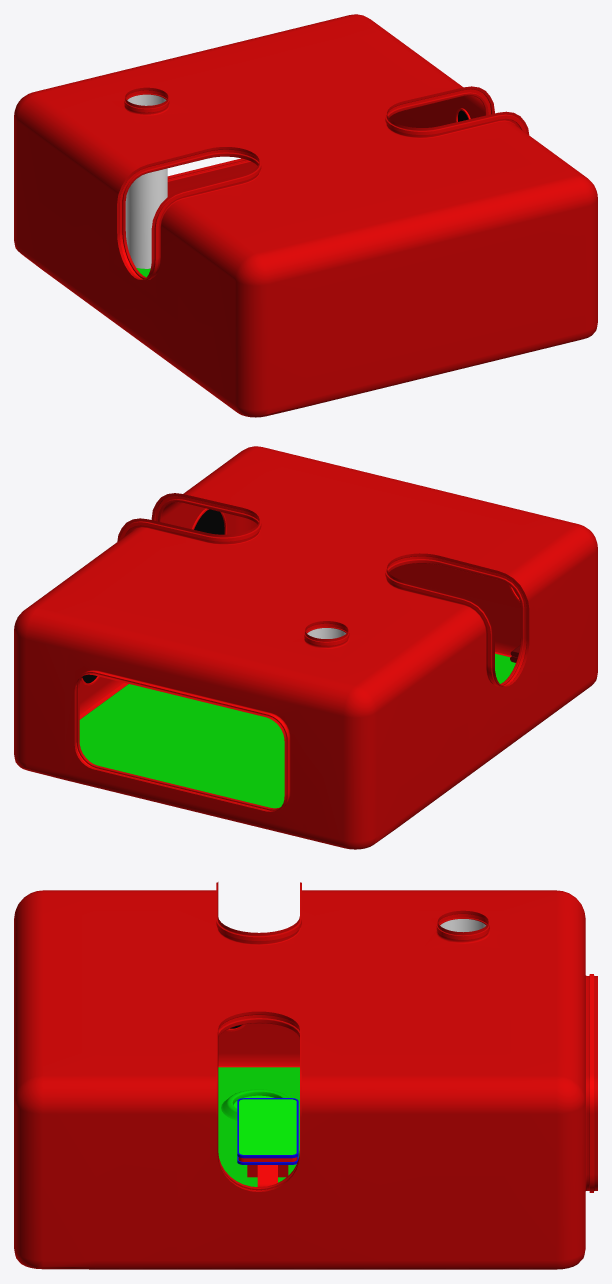
The model's file is Room(noBoard)_mesh.fbx.
3 views of the same model, one above another, from view 1: azimuth 30°, elevation 25°; view 2: azimuth 150°, elevation 25°; view 3: azimuth 270°, elevation 25° (orthographic). The views are drawn at different scales.
Visible parts, largest first — view 1: Room_combined_noBoard, Bulb__1_; view 2: Room_combined_noBoard; view 3: Room_combined_noBoard.
Part boxes in pixels (box(x1,y1,x2,y2)): Room_combined_noBoard: box(14, 14, 597, 417); Bulb__1_: box(125, 94, 167, 268); Room_combined_noBoard: box(14, 446, 597, 849); Room_combined_noBoard: box(14, 882, 597, 1269).
Bounding box in the file's own units: 9437 × 3990 × 10711.
